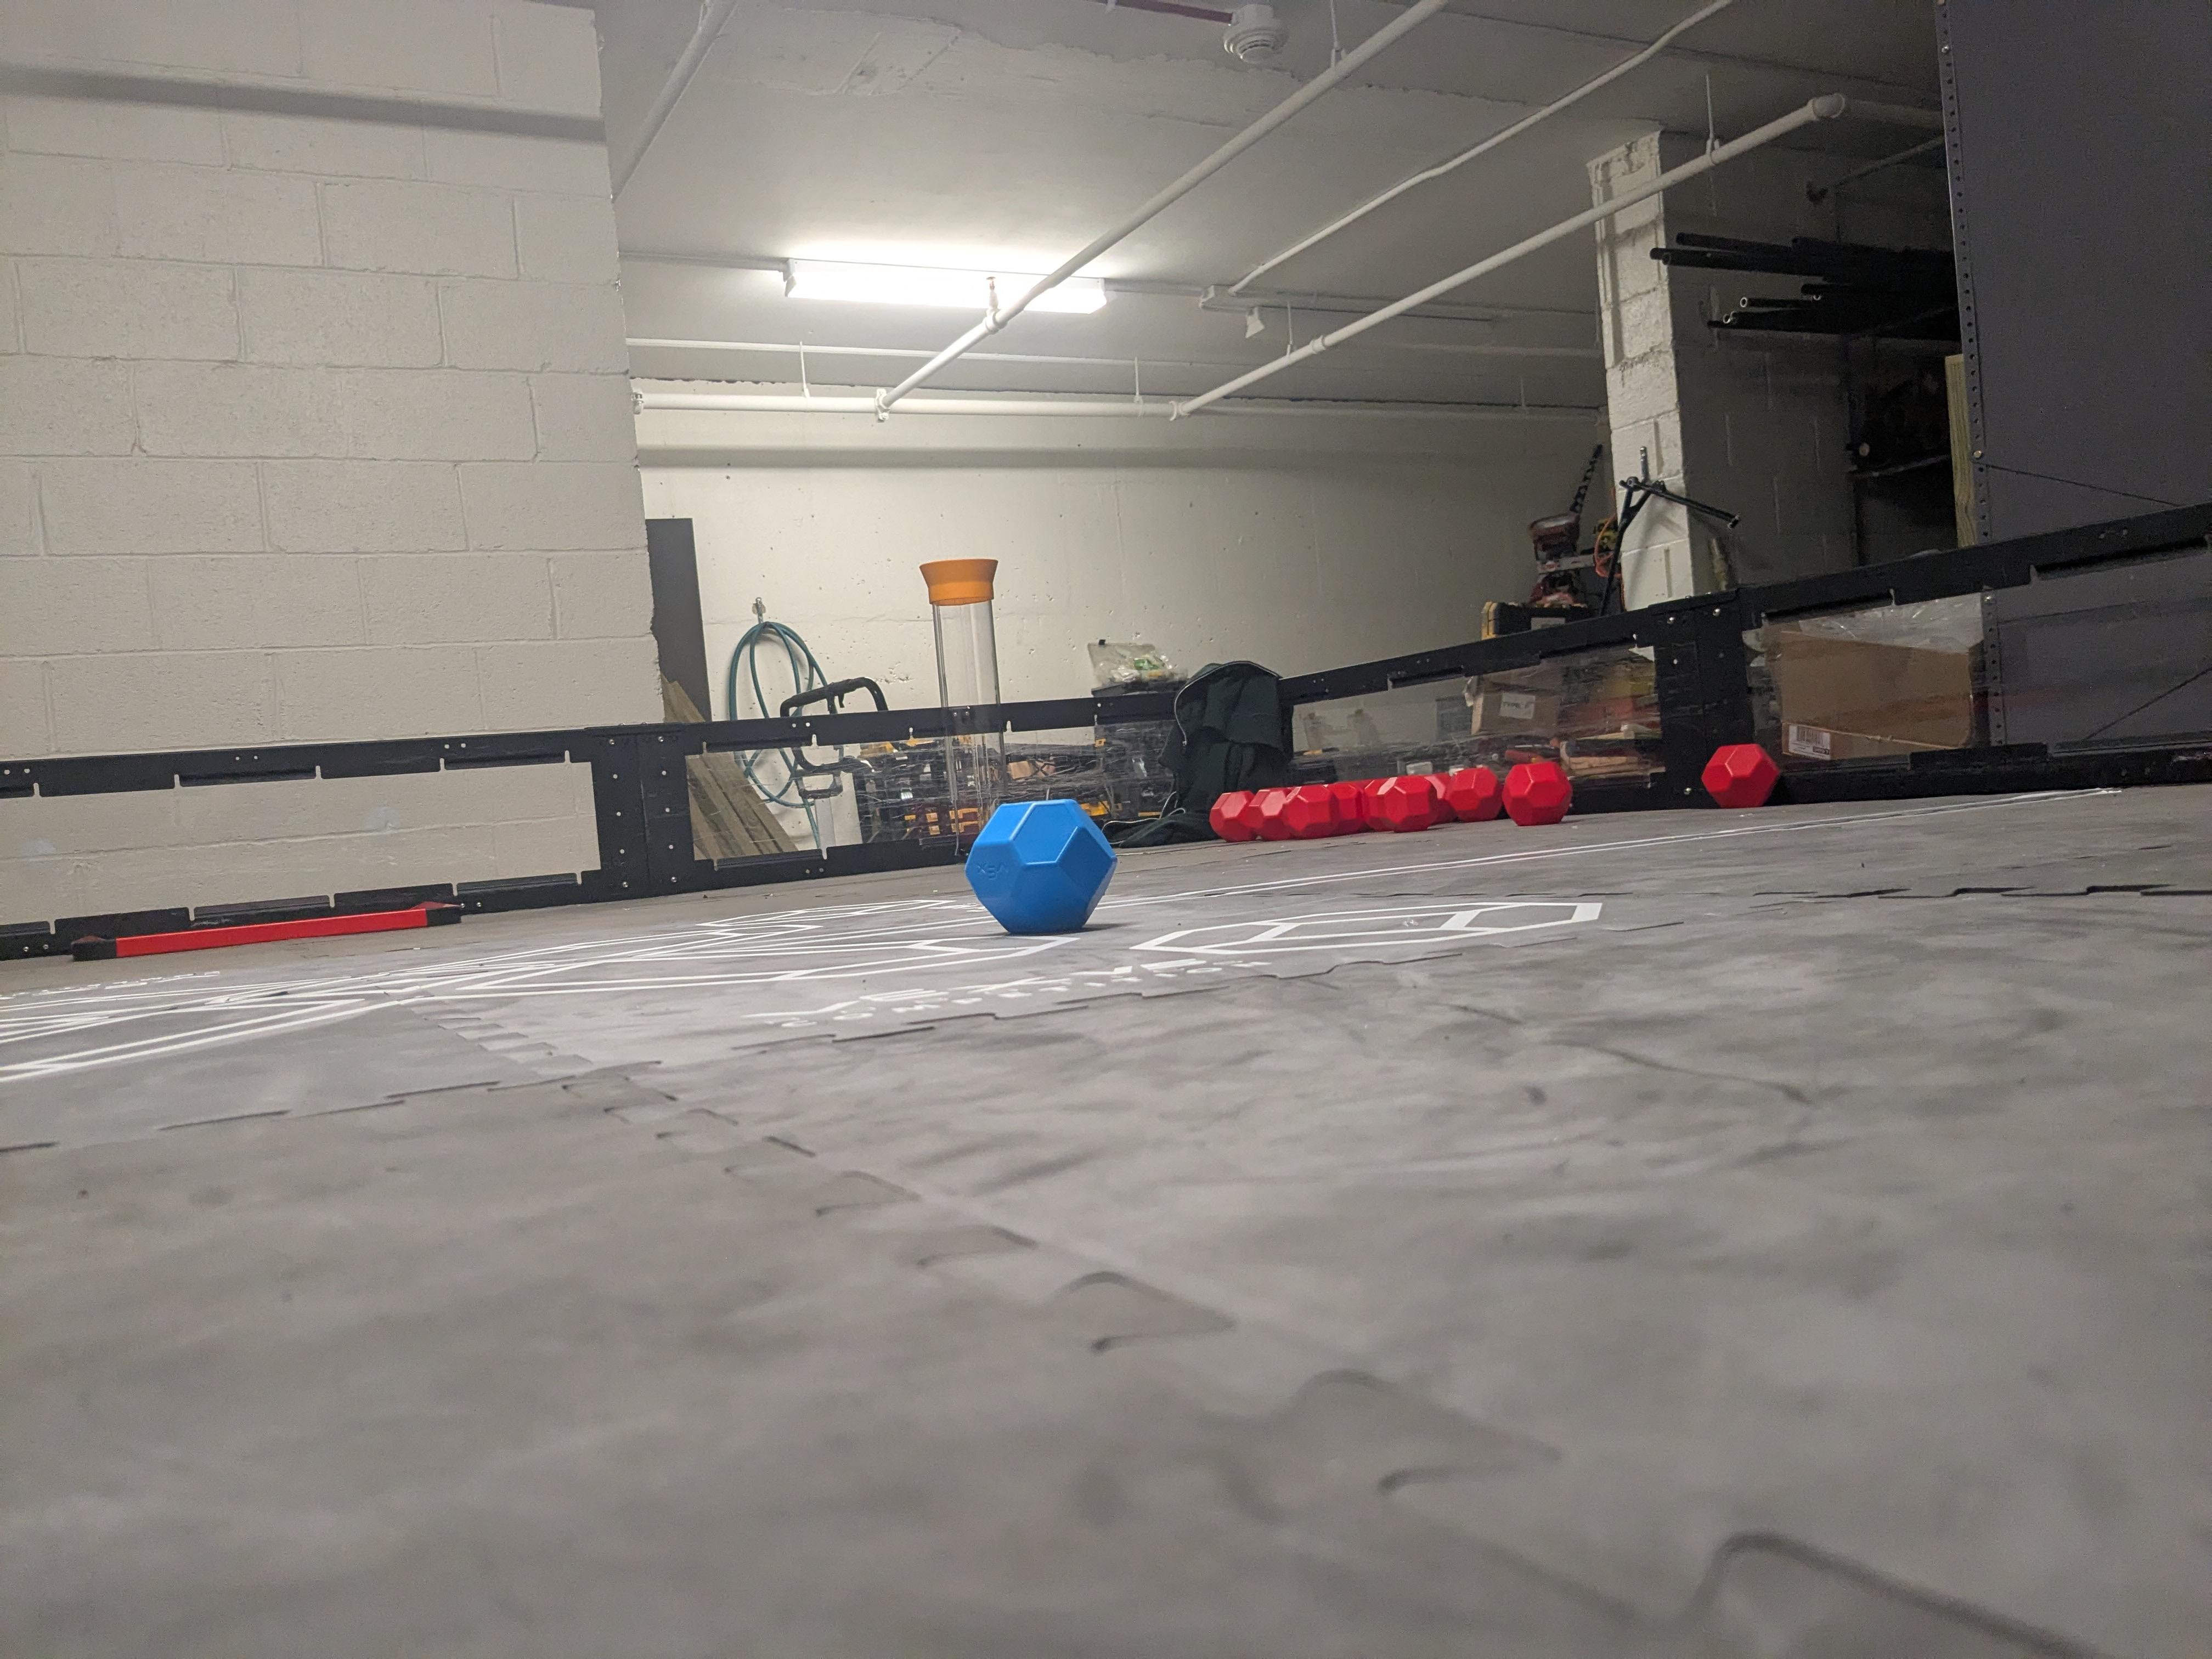Vex-Pieces-BLUE: (968, 800, 1113, 931)
